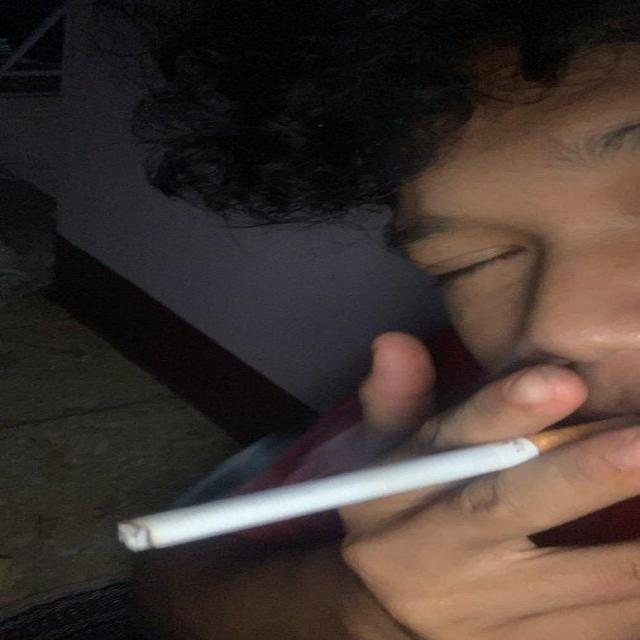rokok: (110, 432, 544, 556)
